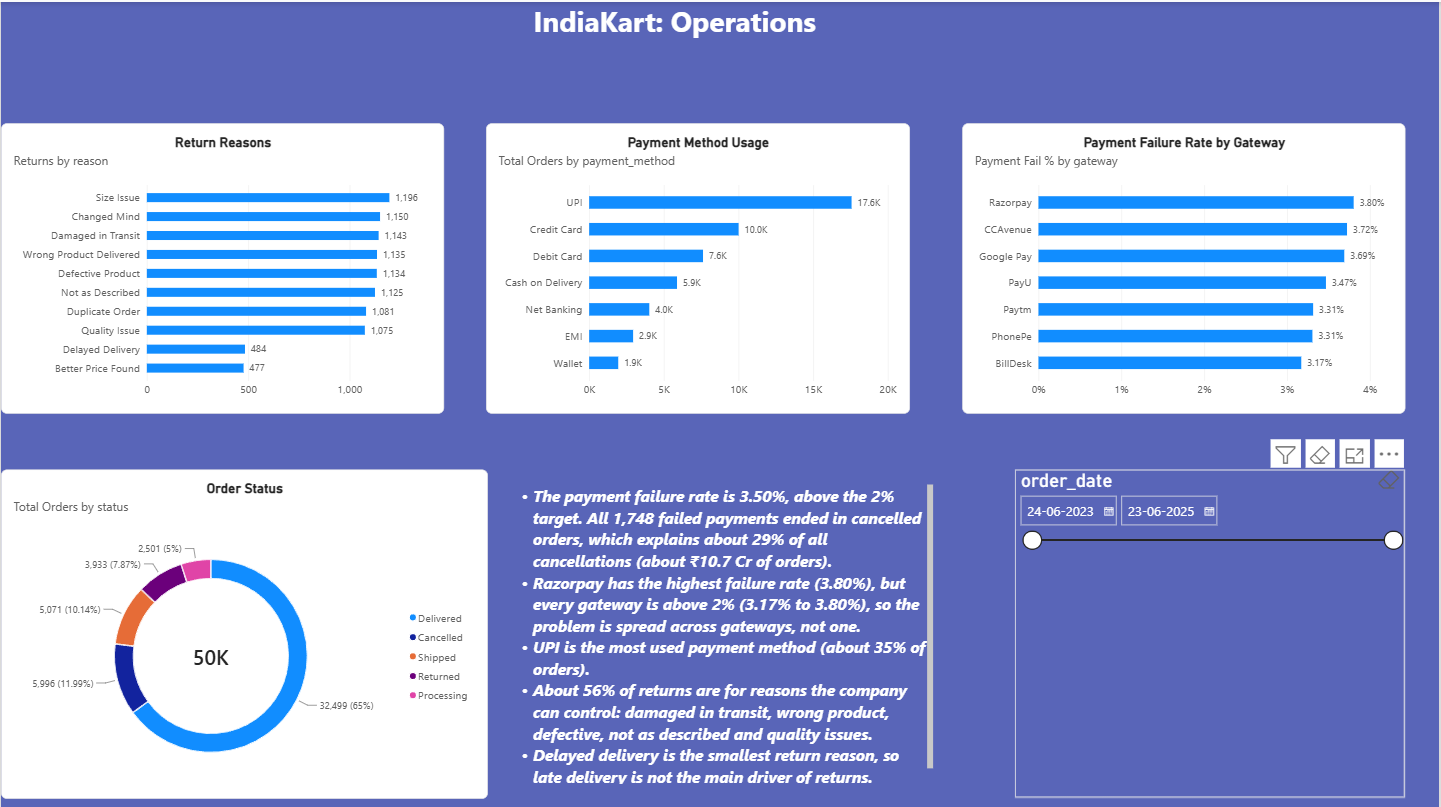

Layout of this report page (visuals, bound fields, positions):
{"tool":"powerbi","page":{"name":"Operations","canvas":[1920,1080],"ordinal":3},"visuals":[{"type":"textbox","box":[712,0,436,80],"z":0},{"type":"donutChart","title":"Order Status","fields":{"Category":["orders.status"],"Y":["orders.Total Orders"]},"box":[0,624,650,440],"z":1000},{"type":"clusteredBarChart","title":"Payment Method Usage","fields":{"Category":["orders.payment_method"],"Y":["orders.Total Orders"]},"box":[648,162,566,388],"z":2000},{"type":"clusteredBarChart","title":"Return Reasons","fields":{"Category":["returns.reason"],"Y":["returns.Returns"]},"box":[0,162,592,388],"z":3000},{"type":"clusteredBarChart","title":"\tPayment Failure Rate by Gateway","fields":{"Category":["payments.gateway"],"Y":["payments.Payment Fail %"]},"box":[1284,162,592,388],"z":4000},{"type":"slicer","fields":{"Values":["orders.order_date"]},"box":[1353.6,624.3,522,440],"z":5000},{"type":"textbox","box":[677.5,645,567.5,400],"z":6000}]}

Visuals, with their boxes in screenshot pixels (x1, y1, x2, y2), scaled from the page's 1920x1080 canvas onto the 1441x807 screenshot:
textbox: [left=534, top=0, right=862, bottom=60]
"Order Status" donutChart: [left=0, top=466, right=488, bottom=795]
"Payment Method Usage" clusteredBarChart: [left=486, top=121, right=911, bottom=411]
"Return Reasons" clusteredBarChart: [left=0, top=121, right=444, bottom=411]
"	Payment Failure Rate by Gateway" clusteredBarChart: [left=964, top=121, right=1408, bottom=411]
slicer - orders.order_date: [left=1016, top=466, right=1408, bottom=795]
textbox: [left=508, top=482, right=934, bottom=781]
